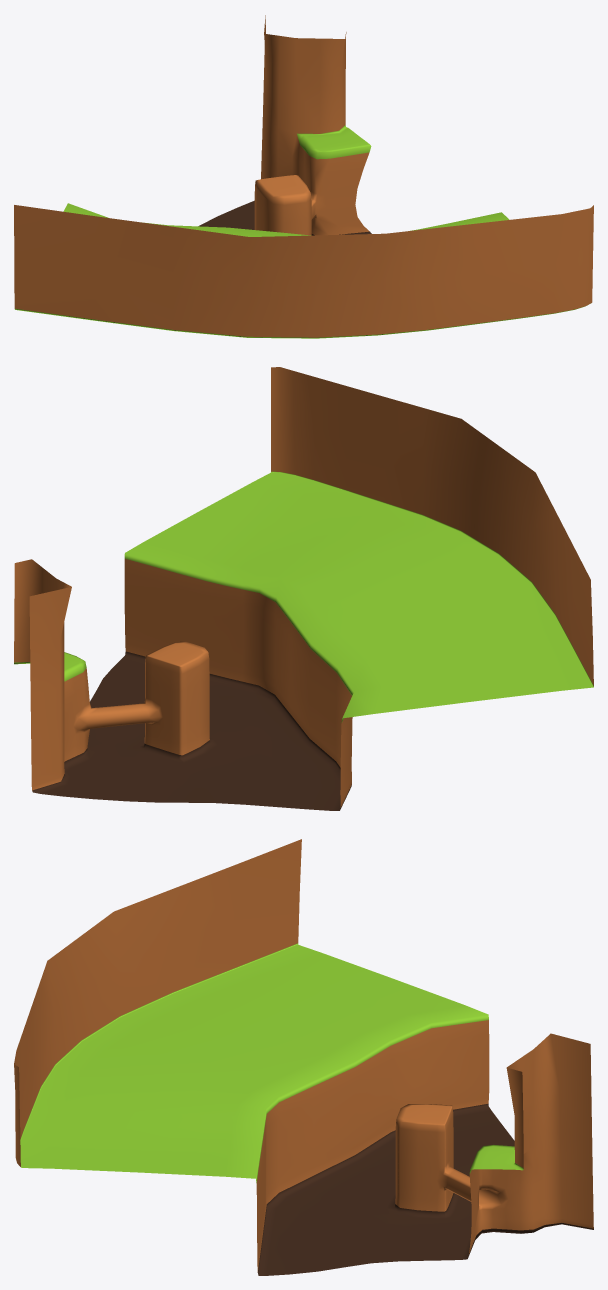
3 views of the same model, one above another, from view 1: azimuth 30°, elevation 25°; view 2: azimuth 150°, elevation 25°; view 3: azimuth 270°, elevation 25° (orthographic). The views are drawn at different scales.
Parts seen in each view (by area): view 1: pCube6; view 2: pCube6; view 3: pCube6.
Boxes of the visible parts, x1=… form: pCube6: x1=14, y1=15, x2=593, y2=338; pCube6: x1=14, y1=367, x2=593, y2=810; pCube6: x1=14, y1=839, x2=593, y2=1275.
Bounding box in the file's own units: 308 × 127 × 323.
1 material, 1 textured.
